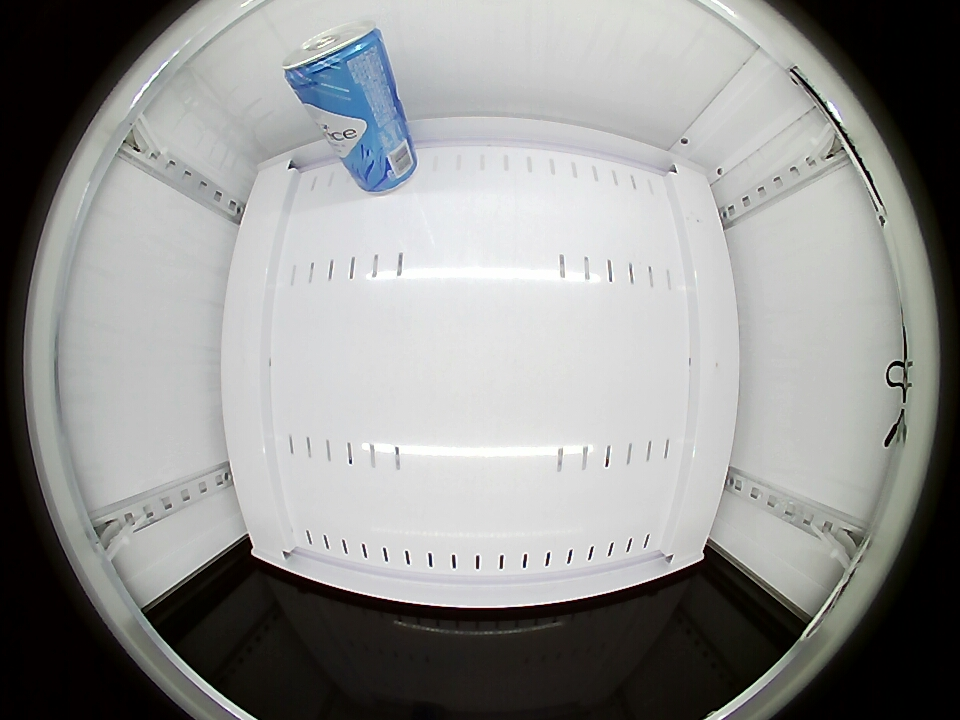qingdaowangzi-2: (281, 23, 384, 99)
